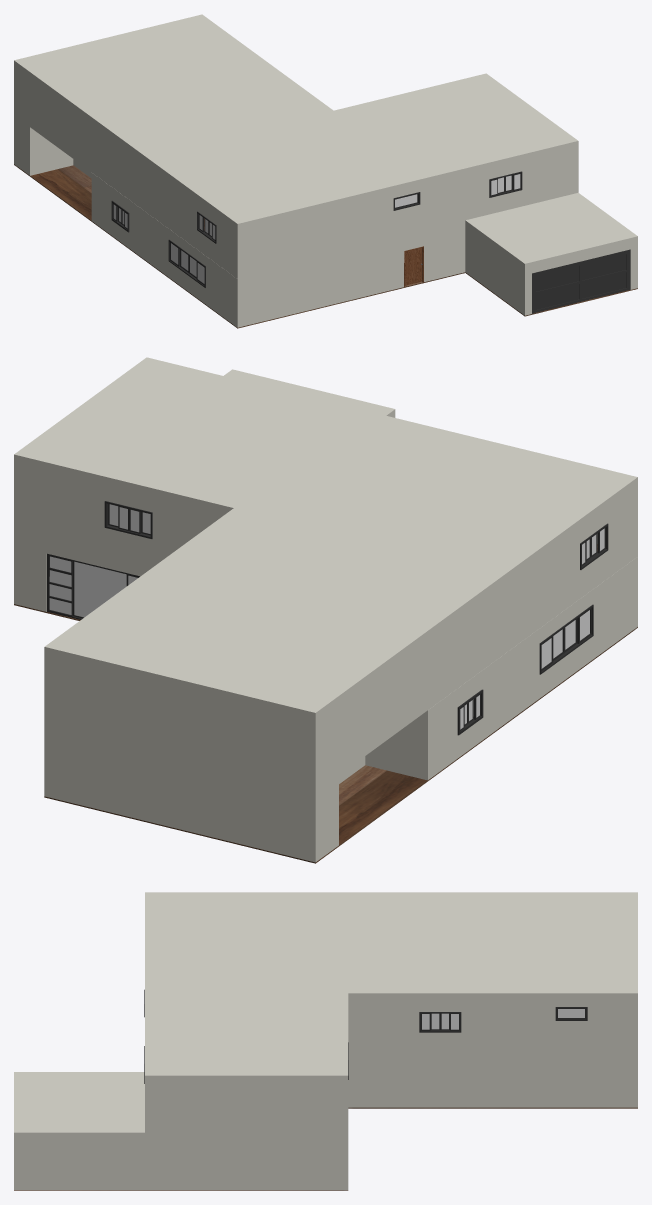
Rendered from casa008.fbx.
The picture shows the model from 3 angles, top to bottom: view 1: azimuth 30°, elevation 25°; view 2: azimuth 150°, elevation 25°; view 3: azimuth 270°, elevation 25°; orthographic projection. The views are drawn at different scales.
Visible parts, largest first — view 1: teto2, paredeexterna2, ParedeExterna1, teto1, Portao, chão, JanelaCozinha, JanelaEscritorio, porta1; view 2: teto2, paredeexterna2, ParedeExterna1, teto1, chão, ParedeExterna1.006, JanelaCozinha, JanelaEscritorio.003, PortaJardim_vidrosLaterais, JanelaQuarto, JanelaLavanderia, Porta_Jardim; view 3: teto2, ParedeExterna1, paredeexterna2, teto1, chão, JanelaQuartoPais, JanelaNBanheiroQ1.
Boxes of the visible parts, box(x1,y1,x2,y2) form: teto2: box(14, 14, 578, 226); paredeexterna2: box(14, 64, 578, 275); ParedeExterna1: box(14, 115, 637, 327); teto1: box(14, 112, 637, 278); Portao: box(532, 249, 630, 313); chão: box(14, 164, 637, 328); JanelaCozinha: box(168, 239, 205, 287); JanelaEscritorio: box(489, 171, 522, 197); porta1: box(405, 247, 422, 285); teto2: box(14, 357, 637, 717); paredeexterna2: box(14, 459, 637, 787); ParedeExterna1: box(14, 414, 637, 862); teto1: box(14, 369, 637, 792); chão: box(14, 604, 637, 863); ParedeExterna1.006: box(74, 561, 126, 617); JanelaCozinha: box(539, 604, 593, 674); JanelaEscritorio.003: box(104, 501, 152, 538); PortaJardim_vidrosLaterais: box(49, 556, 71, 614); JanelaQuarto: box(580, 523, 608, 569); JanelaLavanderia: box(457, 689, 483, 735); Porta_Jardim: box(47, 553, 139, 619); teto2: box(145, 892, 637, 1078); ParedeExterna1: box(14, 1054, 637, 1189); paredeexterna2: box(145, 997, 637, 1132); teto1: box(14, 1050, 637, 1136); chão: box(14, 1107, 637, 1190); JanelaQuartoPais: box(419, 1012, 461, 1032); JanelaNBanheiroQ1: box(555, 1007, 587, 1020).
Bounding box in the file's own units: 2206 × 645 × 3165.
